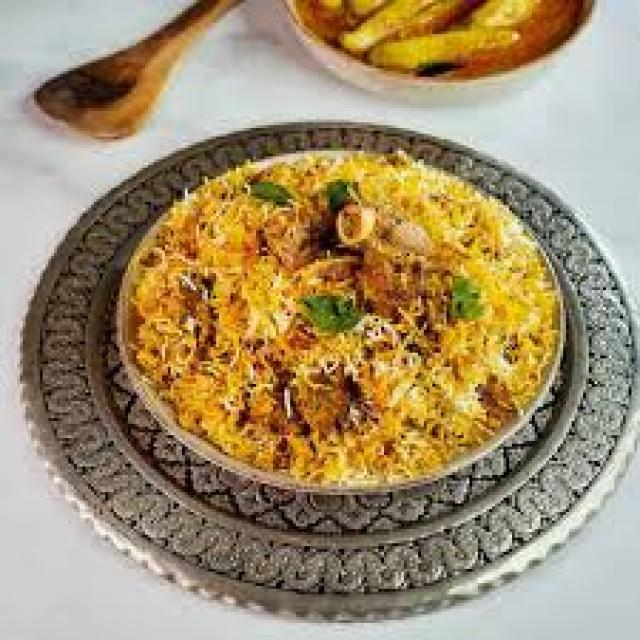Biryani: (128, 137, 551, 492)
